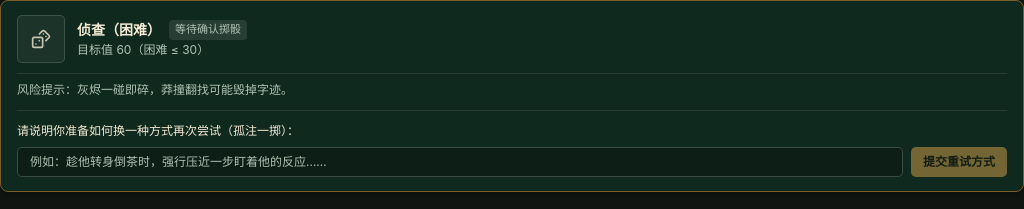
Test: InlineDiceCard check & recovery flows › completes awaiting_push_description and awaiting_push_consequence_ack interactions
The image size is (1024, 209).
Later steps or results of the test are not shown.
Check: the button "提交重试方式" is disabled, box [911,147,1007,177]
Type "趴到炉膛边借煤油灯近距离辨认残墨" into the field with placeholder "例如：趁他转身倒茶时，强行压近一步盯着他的反应……" at (460, 162), box [17,147,903,177]
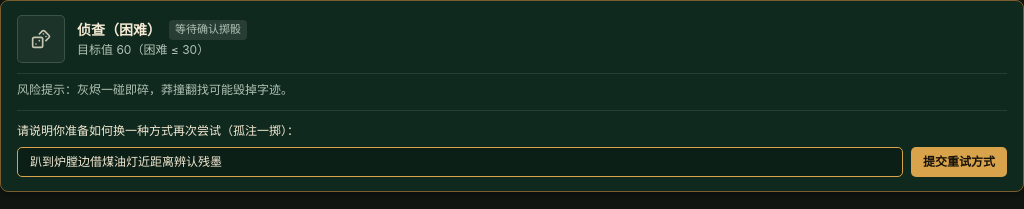
Check: the button "提交重试方式" is enabled, box [911,147,1007,177]
